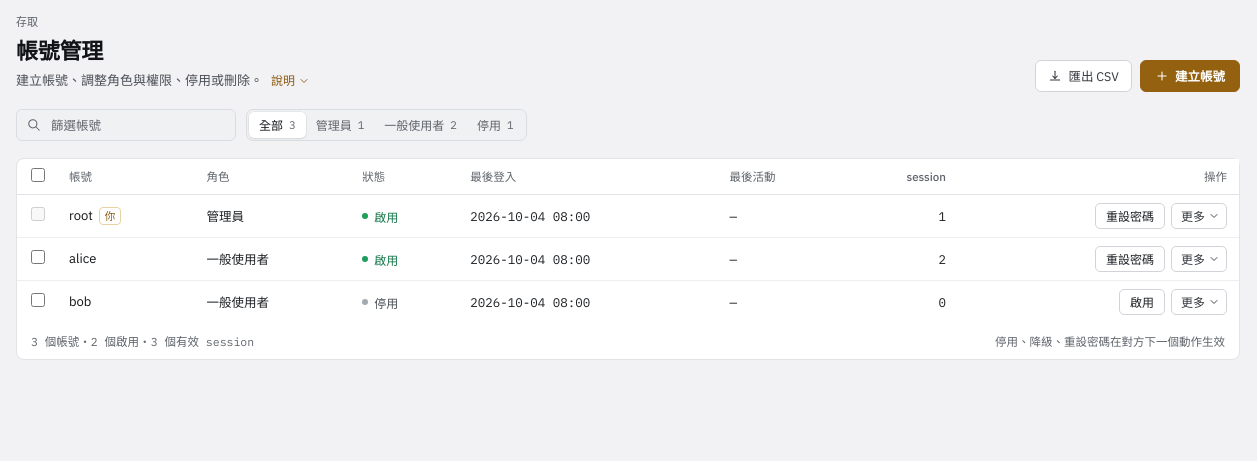
Test: 頁首：摘要一句、長說明收在「說明」後面；表格底下保留生效時機的說明與統計
Expected: the heading "帳號管理" is shown, [16,36,103,65]
Expected: the text "建立帳號、調整角色與權限、停用或刪除。 說明" is shown, [16,71,310,90]
Click the button "說明".
click(290, 81)  # box [271,71,310,90]
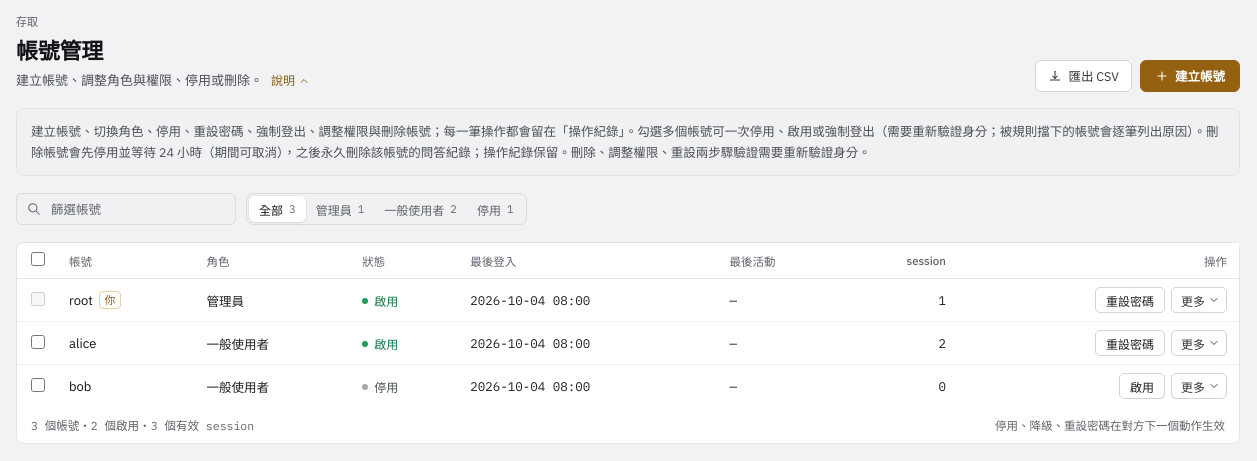
Expected: the text "停用、降級、重設密碼在對方下一個動作生效" is shown, [995,417,1225,433]
Expected: the text "每一筆操作都會留在「操作紀錄」" shows "刪除、調整權限、重設兩步驟驗證需要重新驗證身分", [31,123,1218,160]
